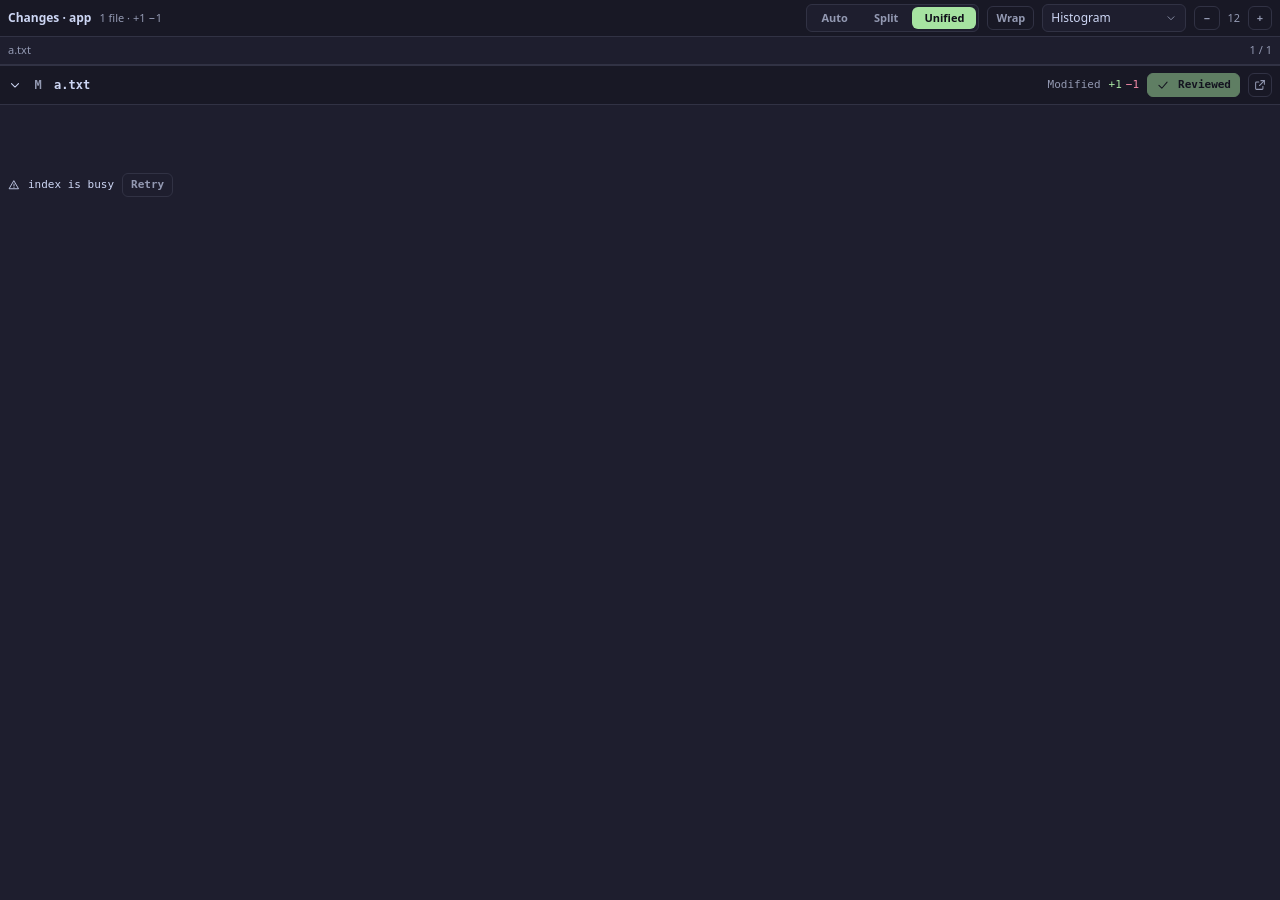
Test: only the files near the visible part are fetched › shows why a file did not load, and loads it on Retry
This screenshot has width=1280, height=900.
Expected: the list with test id "review-list" is shown, [0,65,1279,265]
Expected: the text with test id "review-placeholder-error" reads "index is busy", [28,178,114,191]
Click the button "Retry" at [148, 185], box [122,173,173,197]
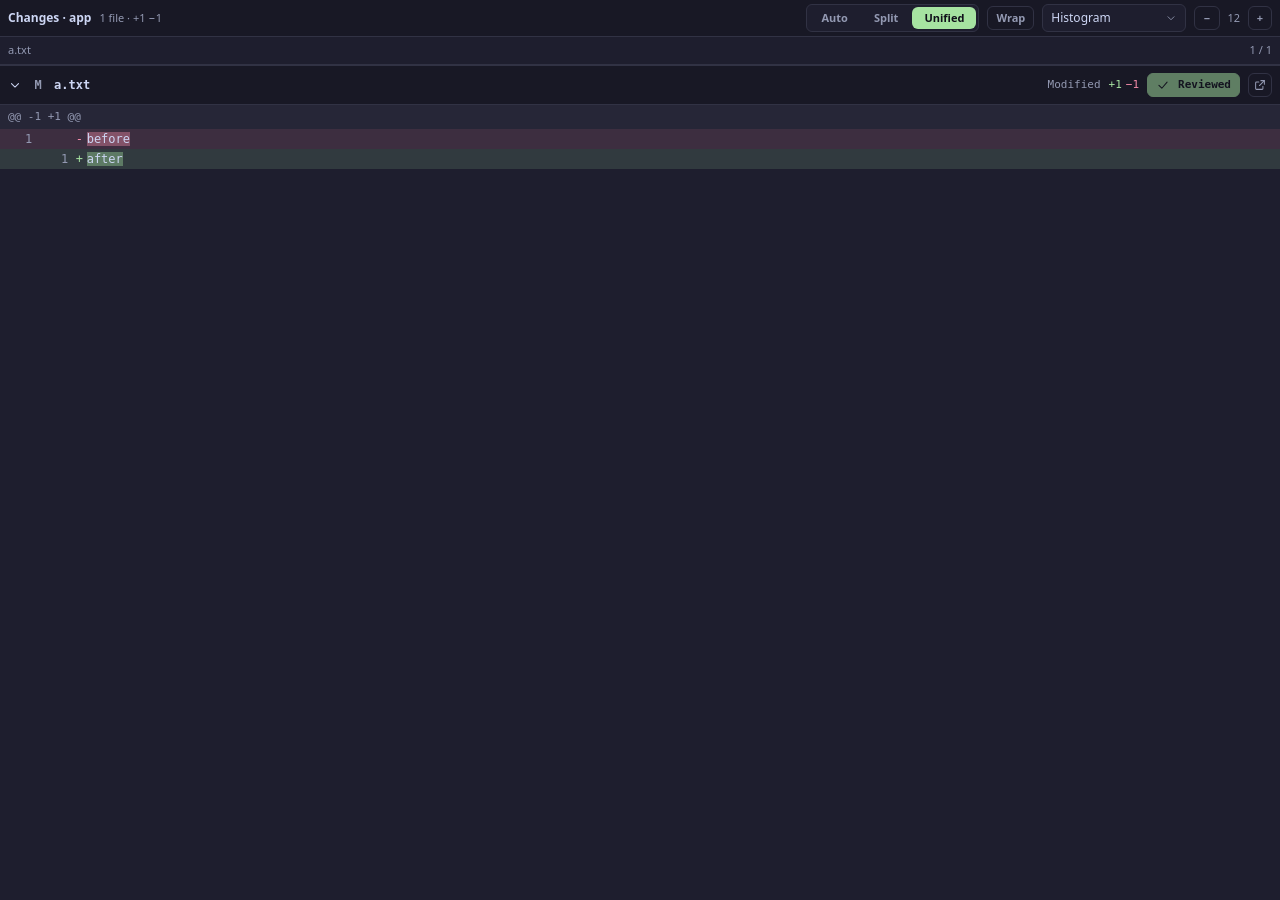
Now the text with test id "review-placeholder-error" is gone
Now the number of list items with test id "review-line" is 2, box [0,129,1279,149]; [0,149,1279,169]
